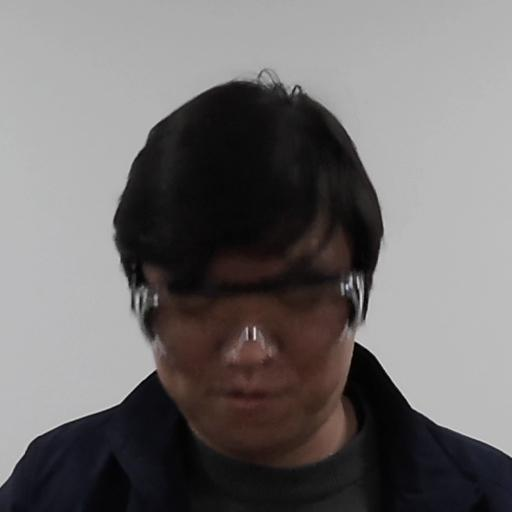glasses: (112, 78, 398, 448)
